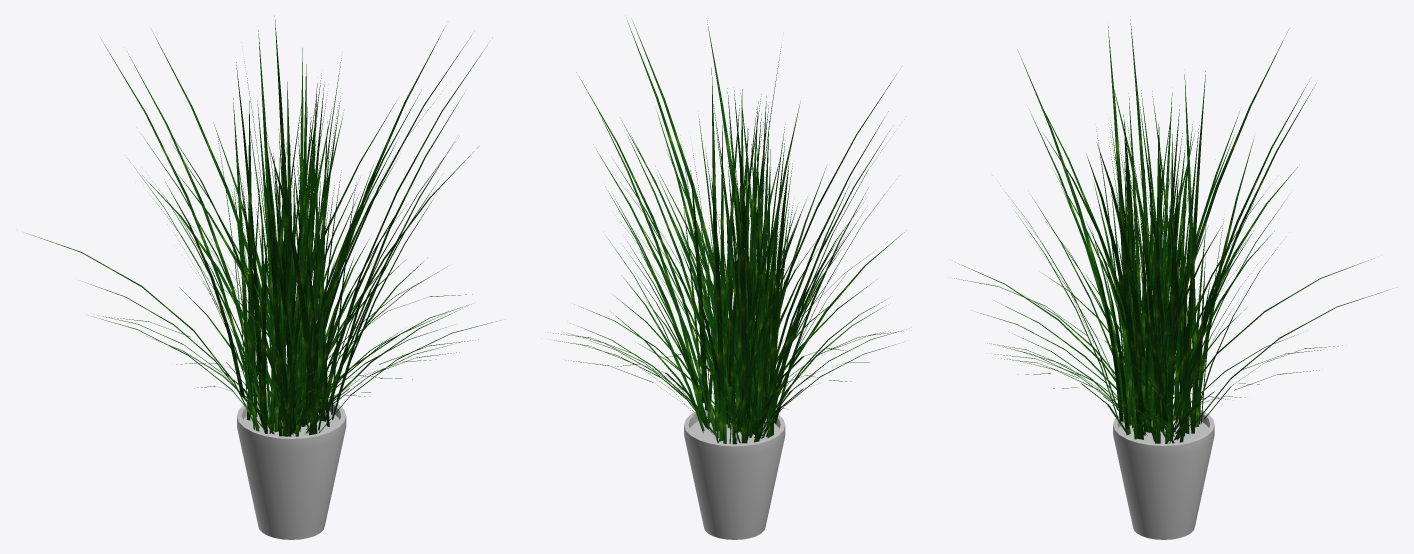
Rendered from Plant.FBX.
3 renders of one model, left to right at view 1: azimuth 30°, elevation 25°; view 2: azimuth 150°, elevation 25°; view 3: azimuth 270°, elevation 25°, orthographic. The views are drawn at different scales.
Parts seen in each view (by area): view 1: Plant; view 2: Plant; view 3: Plant.
Boxes of the visible parts, <box> form: Plant: <box>27,16,500,539</box>; Plant: <box>550,20,906,539</box>; Plant: <box>954,16,1389,539</box>.
Size of the model in its own units: 2555 by 2874 by 3465.
